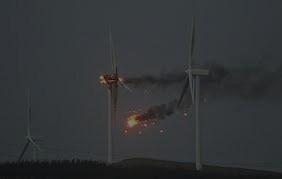faulty: (95, 45, 161, 132)
